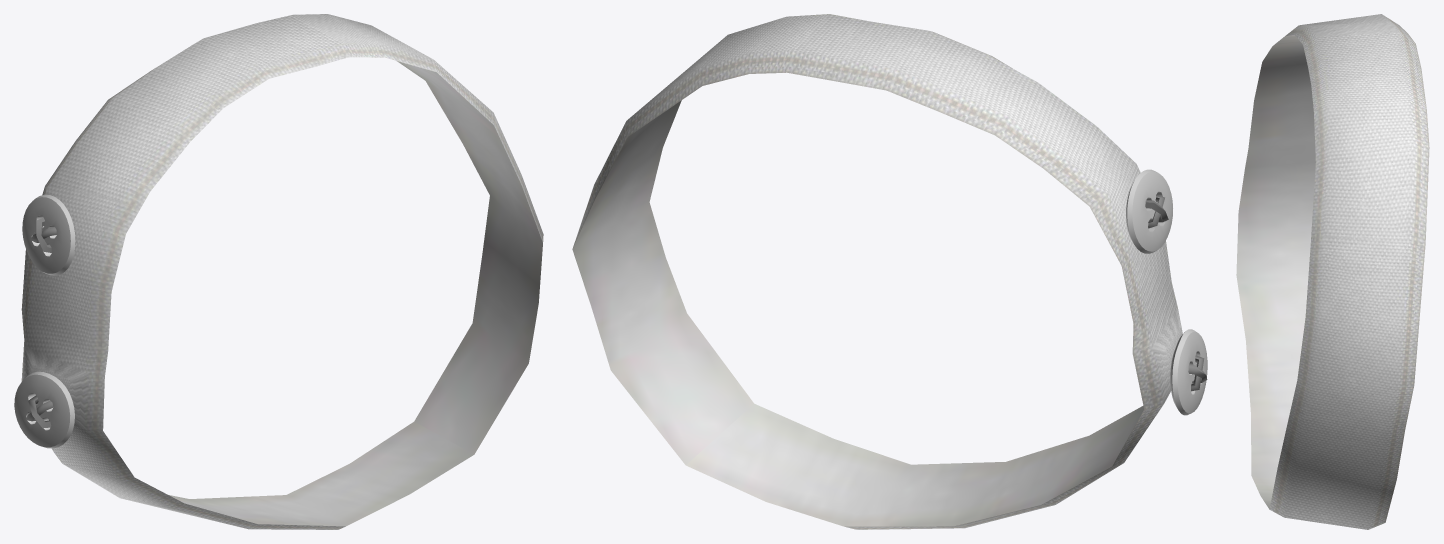
The model's file is fixation_buttons_STB_SQ2.fbx.
3 renders of one model, left to right at view 1: azimuth 30°, elevation 25°; view 2: azimuth 150°, elevation 25°; view 3: azimuth 270°, elevation 25°, orthographic. The views are drawn at different scales.
Parts seen in each view (by area): view 1: fixation_buttons_STB_SQ2; view 2: fixation_buttons_STB_SQ2; view 3: fixation_buttons_STB_SQ2.
Boxes of the visible parts, <box> form: fixation_buttons_STB_SQ2: <box>14,14,543,529</box>; fixation_buttons_STB_SQ2: <box>572,14,1207,529</box>; fixation_buttons_STB_SQ2: <box>1236,14,1429,529</box>.
Bounding box in the file's own units: 0.2417 × 0.2035 × 0.0815.
